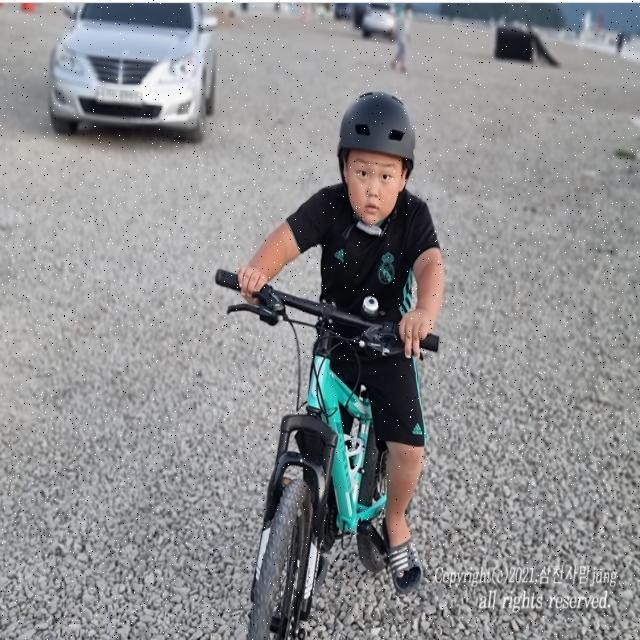helmet: (338, 90, 416, 226)
